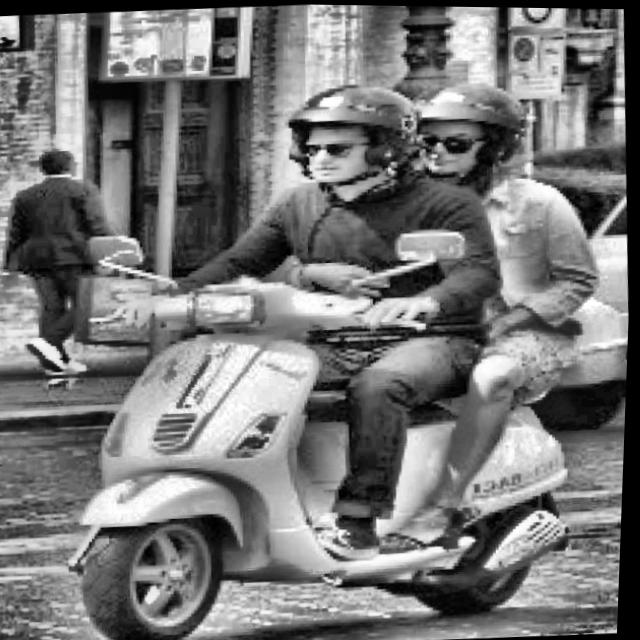motorcycle: (25, 170, 601, 640)
